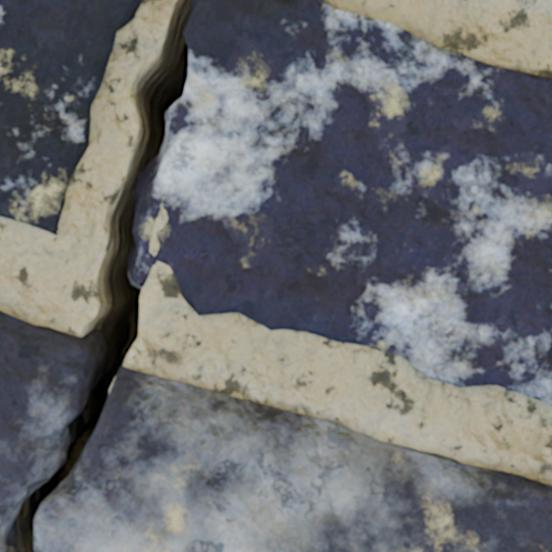brick: (145, 0, 551, 403), (0, 0, 141, 233)
broken_brick: (36, 367, 551, 551), (0, 309, 87, 551)
crack: (1, 0, 196, 551)
